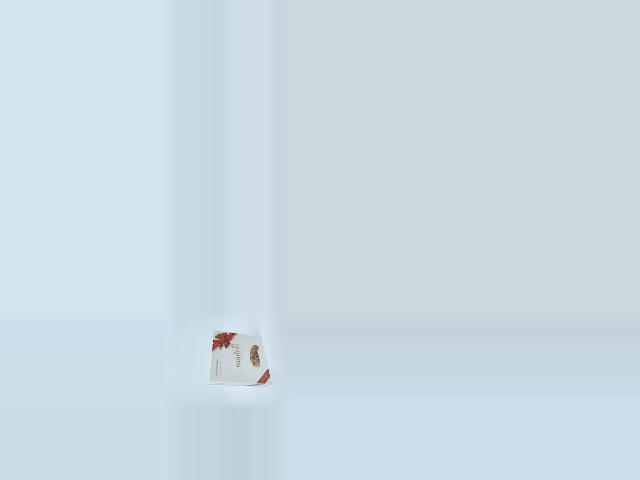chocolate: (211, 329, 274, 398)
